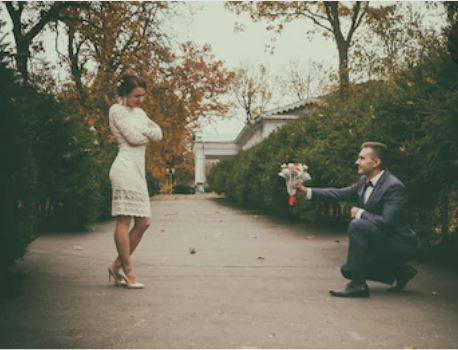Good: (110, 79, 416, 298)
